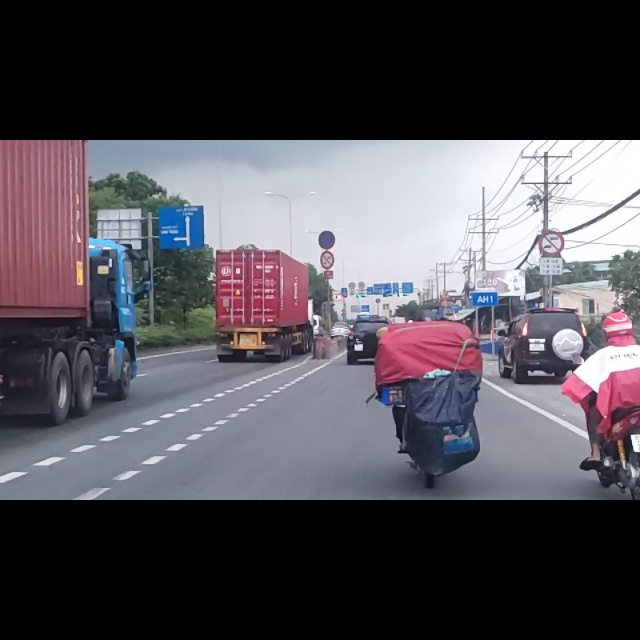bien_nguy_hiem: (538, 159, 564, 209), (317, 160, 336, 193), (321, 197, 335, 230)
